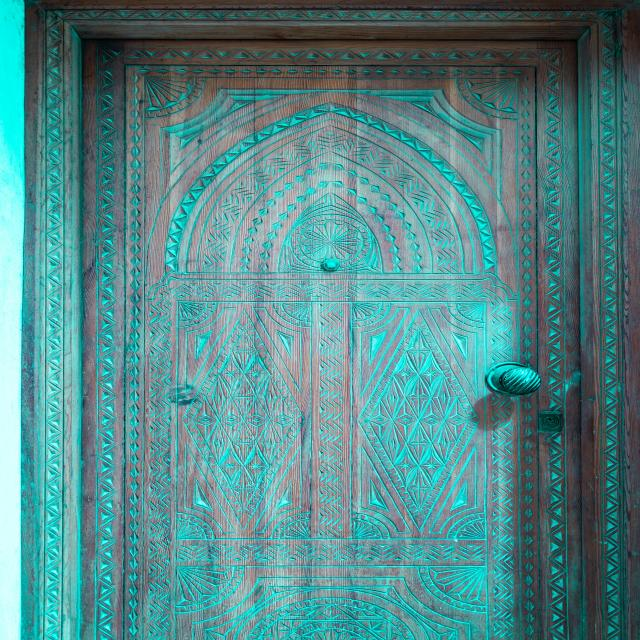door-knob: (488, 361, 542, 395)
